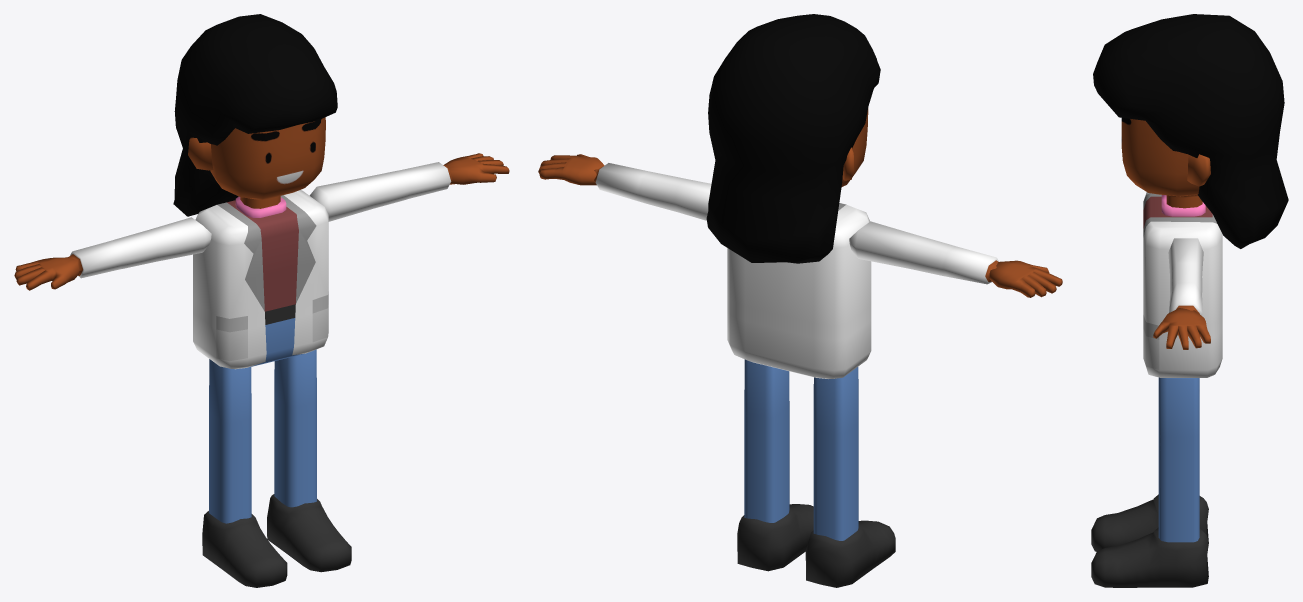
The model's file is NPC_Yellow01_BlackHair02.gltf.
3 views of the same model, side by side, from view 1: azimuth 30°, elevation 25°; view 2: azimuth 150°, elevation 25°; view 3: azimuth 270°, elevation 25° (orthographic). The views are drawn at different scales.
Parts seen in each view (by area): view 1: NPC_Corpo_Yellow1_BlackHair.002; view 2: NPC_Corpo_Yellow1_BlackHair.002; view 3: NPC_Corpo_Yellow1_BlackHair.002.
Part boxes in pixels (bbox=[...]): NPC_Corpo_Yellow1_BlackHair.002: bbox=[14, 14, 509, 587]; NPC_Corpo_Yellow1_BlackHair.002: bbox=[538, 14, 1062, 587]; NPC_Corpo_Yellow1_BlackHair.002: bbox=[1091, 14, 1288, 587].
Size of the model in its own units: 2.31 by 2.33 by 0.7777.
Materials: 1 (1 with a texture image).
